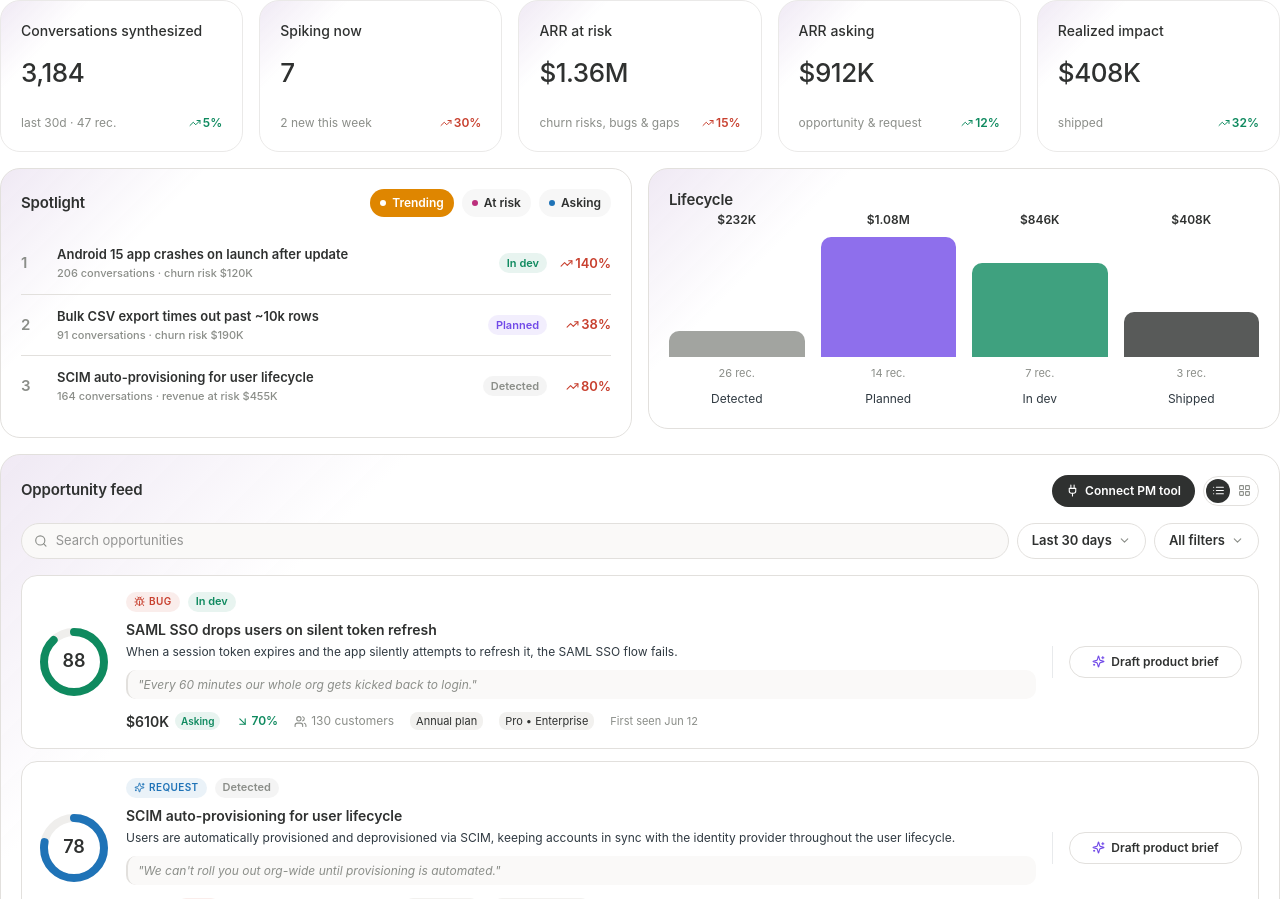
Test: PmDashboard › filters the feed by search text
Check: the text "SAML SSO drops users on silent token refresh" is shown, box [126,620,437,638]
Type "SCIM" into the field with placeholder "Search opportunities" at (526, 541), box [56,531,996,550]
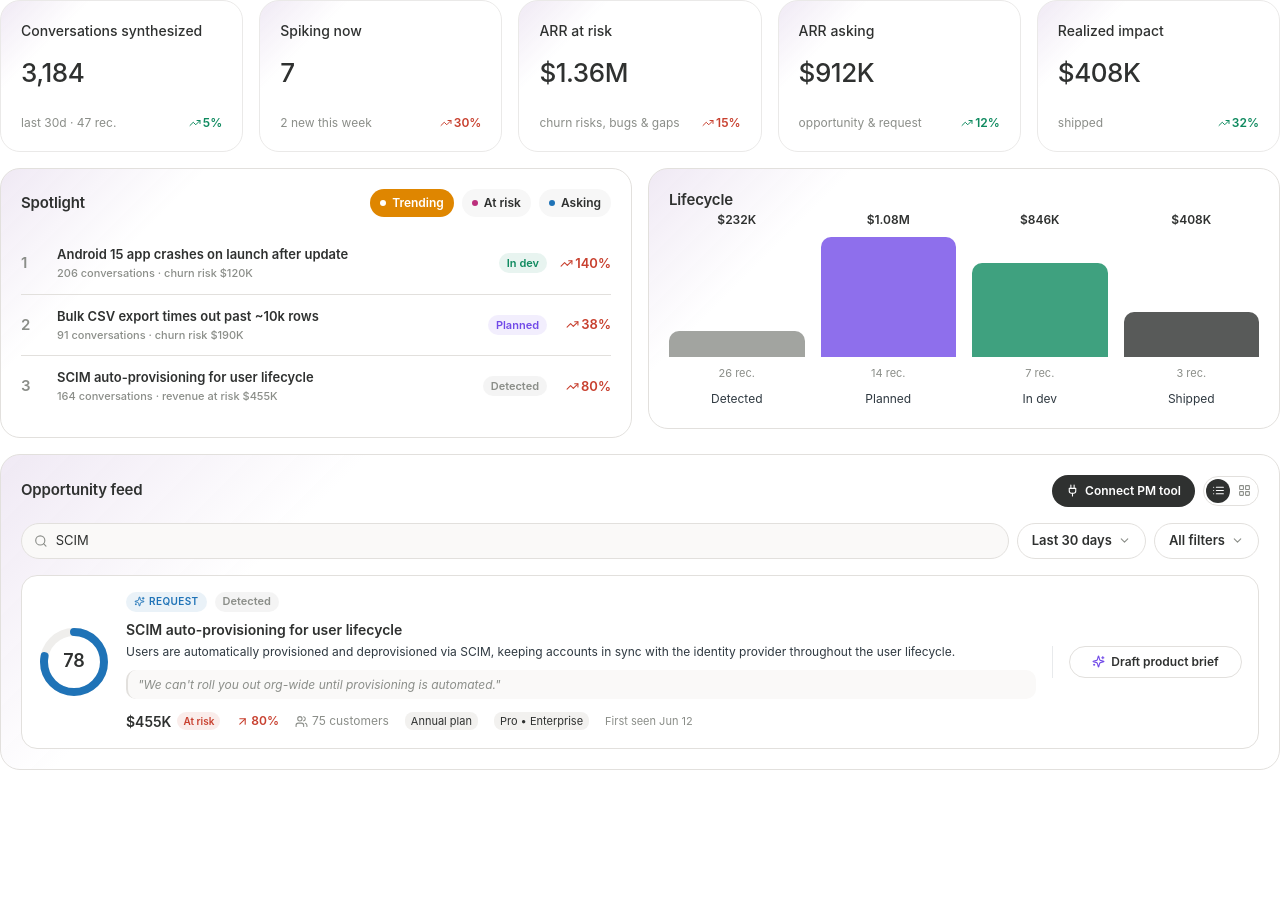
Check: the text "SCIM auto-provisioning for user lifecycle" below "Opportunity feed" is shown, box [126,620,402,638]
Check: the link "SAML SSO drops users" is gone
